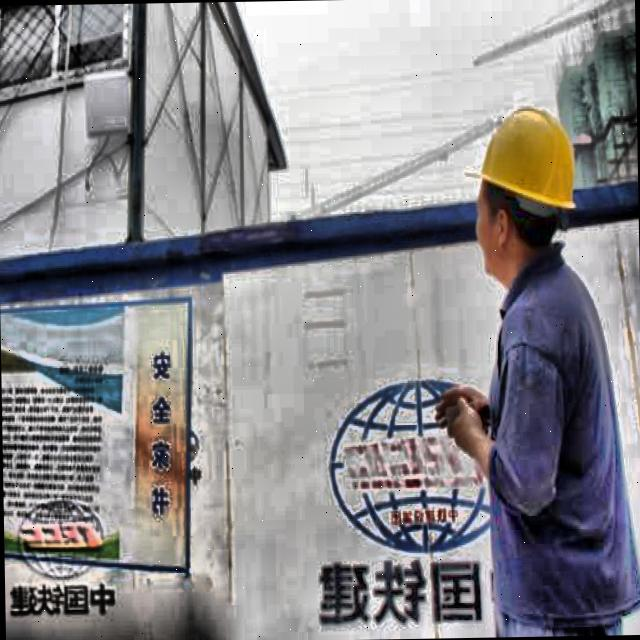helmet: (466, 84, 585, 296)
